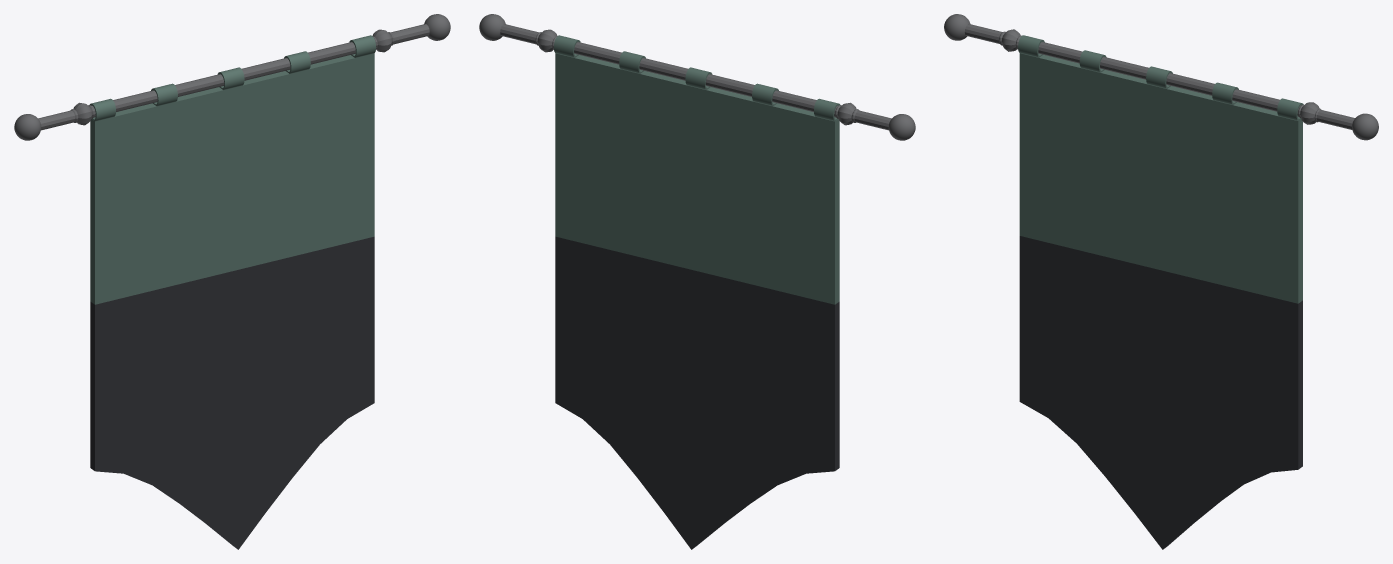
Rendered from bannerUntorn.fbx.
The picture shows the model from 3 angles, left to right: view 1: azimuth 30°, elevation 25°; view 2: azimuth 150°, elevation 25°; view 3: azimuth 330°, elevation 25°; orthographic projection.
Parts seen in each view (by area): view 1: banner, bannerStand, standEnd02, standEnd01; view 2: banner, bannerStand, standEnd02, standEnd01; view 3: banner, bannerStand, standEnd01, standEnd02.
Boxes of the visible parts, x1,y1,x2,y2 form: banner: [90, 53, 374, 549]; bannerStand: [38, 24, 429, 130]; standEnd02: [14, 114, 41, 140]; standEnd01: [424, 14, 450, 40]; banner: [555, 53, 839, 549]; bannerStand: [500, 24, 891, 130]; standEnd02: [888, 114, 915, 140]; standEnd01: [479, 14, 505, 40]; banner: [1019, 53, 1302, 549]; bannerStand: [964, 24, 1354, 129]; standEnd01: [1352, 113, 1378, 140]; standEnd02: [944, 14, 970, 40].
Bounding box in the file's own units: 633 × 676 × 34.22.
